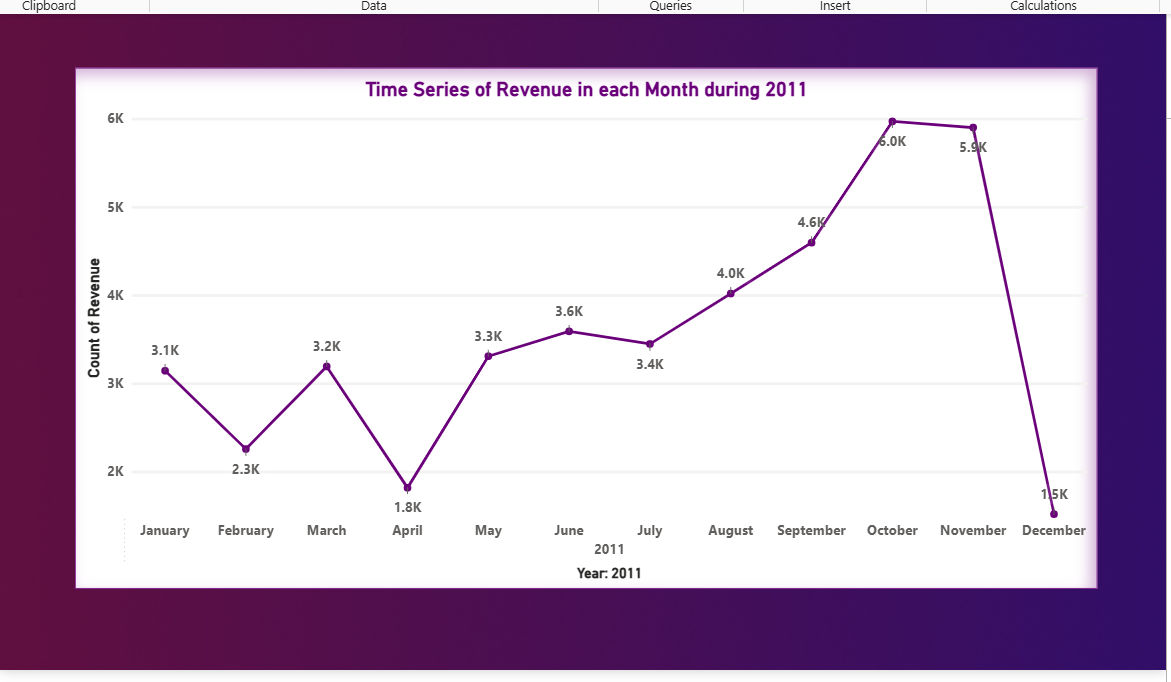

The dashboard page shown, as its layout file describes it:
{"tool":"powerbi","page":{"name":"Q1","canvas":[1280,720],"ordinal":0},"visuals":[{"type":"lineChart","title":"Time Series of Revenue in each Month during 2011","fields":{"Y":["CountNonNull(Online Retail.Revenue)"],"Category":["Online Retail.InvoiceDate.Variation.Date Hierarchy.Year","Online Retail.InvoiceDate.Variation.Date Hierarchy.Month"]},"box":[82.3,59,1122,572],"z":0}]}

Visuals, with their boxes on the page's 1280x720 design canvas (x1, y1, x2, y2). These are canvas units, not pixel positions in the 1171x682 screenshot, which may show the page scaled, cropped or inside an application window:
"Time Series of Revenue in each Month during 2011" lineChart: (82,59,1204,631)
